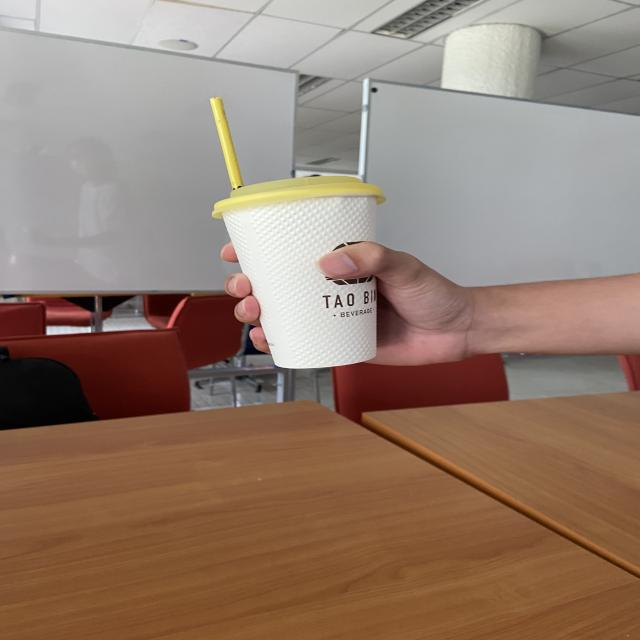cup: (212, 175, 391, 370)
